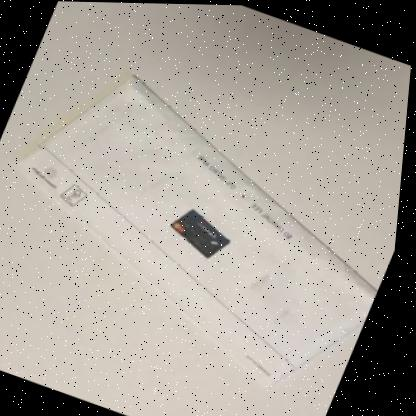Paper: (19, 75, 383, 385)
